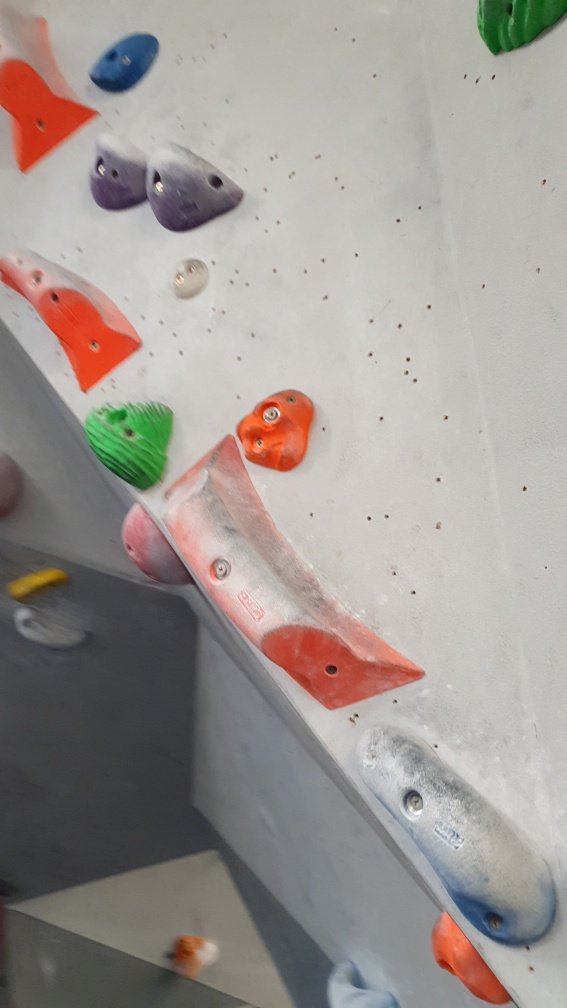Crimp: (87, 26, 162, 93)
Jug: (144, 136, 251, 234), (80, 394, 174, 493), (91, 127, 148, 206)
Pinch: (161, 428, 427, 713), (358, 718, 559, 950), (1, 247, 147, 393), (1, 8, 100, 180)
Sloper: (121, 500, 192, 592)
